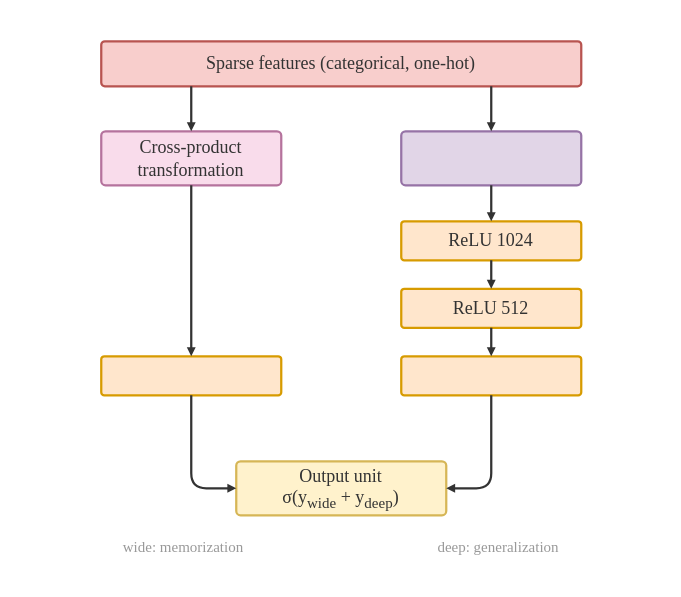
This 681x597 diagram has some shape labels left out. Each missing label, with the centre of its shape:
Dense embeddings: pixel 490 157
Linear (wide): pixel 190 375
ReLU 256: pixel 490 375
